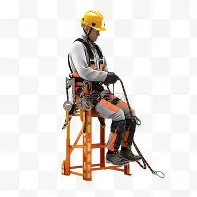safety belt: (62, 38, 117, 103)
